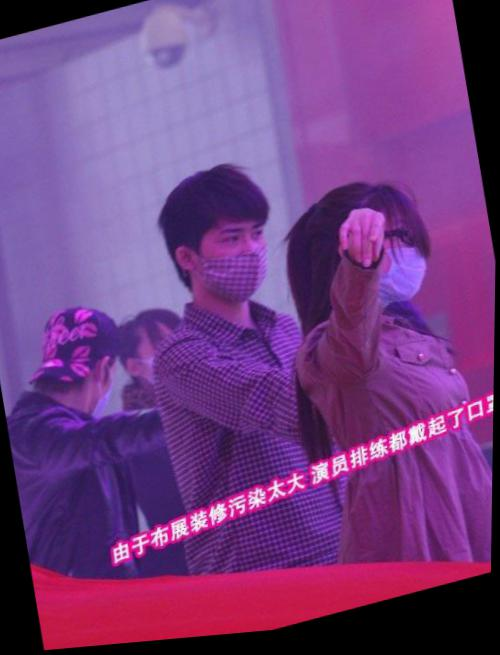OK: (352, 229, 433, 319)
WRONG: (181, 211, 280, 316)
